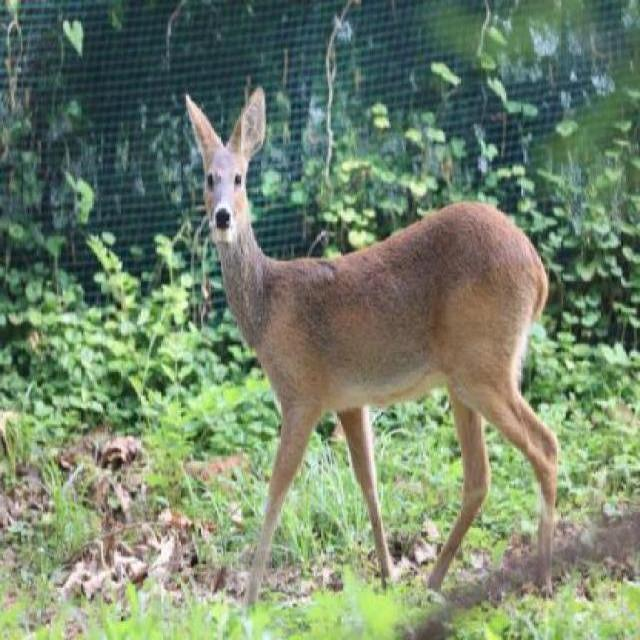deer: (186, 80, 572, 588)
